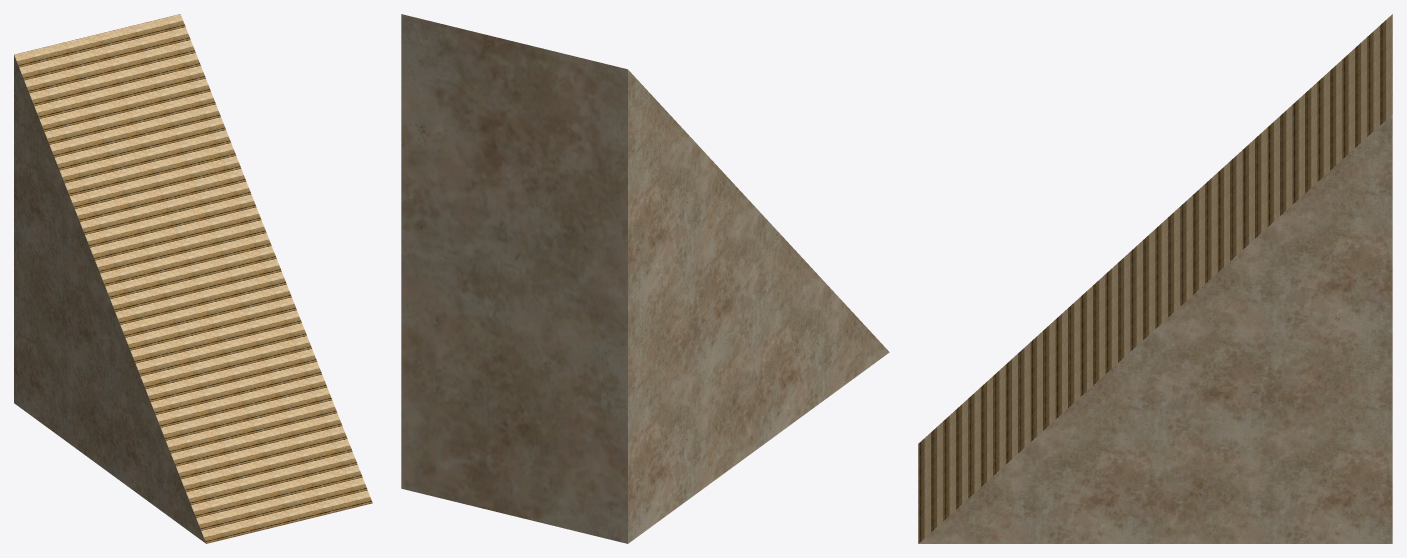
The model's file is thm_tato_imprv_stair_sml_s02_l1.fbx.
The picture shows the model from 3 angles, left to right: view 1: azimuth 30°, elevation 25°; view 2: azimuth 150°, elevation 25°; view 3: azimuth 270°, elevation 25°; orthographic projection. The views are drawn at different scales.
Parts seen in each view (by area): view 1: mesh_node; view 2: mesh_node; view 3: mesh_node.
Boxes of the visible parts, x1,y1,x2,y2 form: mesh_node: (14,14,372,543); mesh_node: (401,14,889,543); mesh_node: (918,14,1392,543).
Size of the model in its own units: 4 by 8 by 8.
2 materials, 2 textured.
